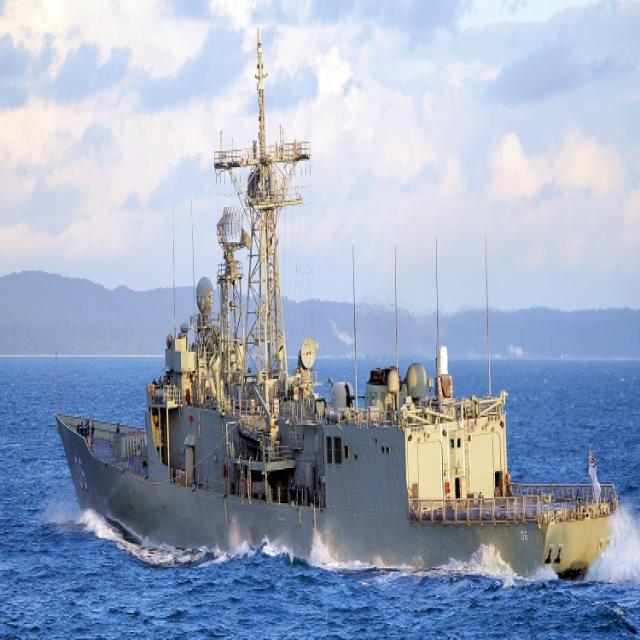Fragata: (54, 28, 623, 589)
